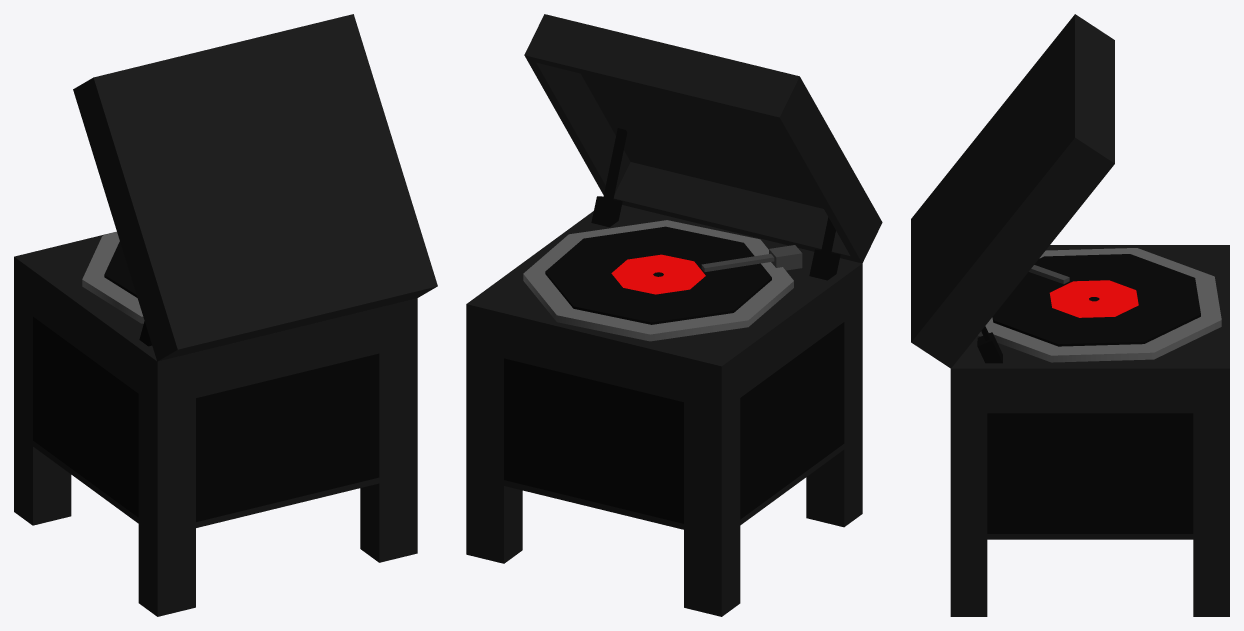
File: RecordPlayer.FBX
The picture shows the model from 3 angles, left to right: view 1: azimuth 30°, elevation 25°; view 2: azimuth 150°, elevation 25°; view 3: azimuth 270°, elevation 25°; orthographic projection. The views are drawn at different scales.
Parts seen in each view (by area): view 1: Box051; view 2: Box051; view 3: Box051.
Boxes of the visible parts, x1,y1,x2,y2 form: Box051: (14, 14, 437, 616); Box051: (466, 14, 882, 616); Box051: (911, 14, 1229, 616).
Size of the model in its own units: 90.38 by 164 by 98.53.
